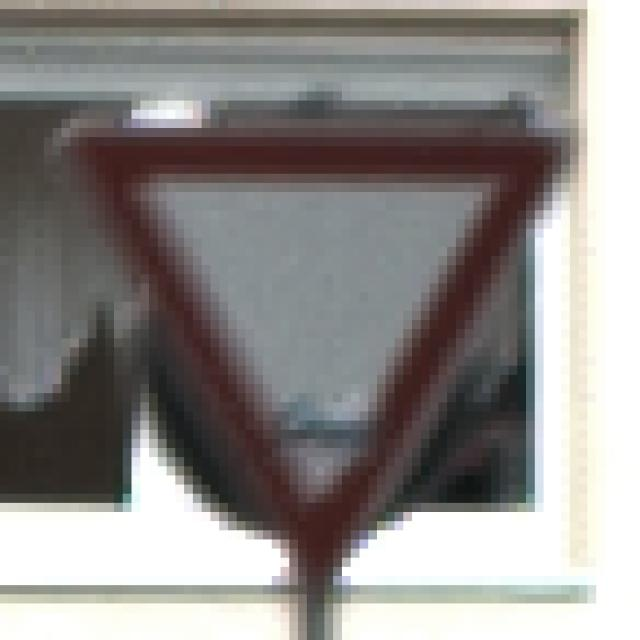Give Way: (63, 65, 589, 577)
